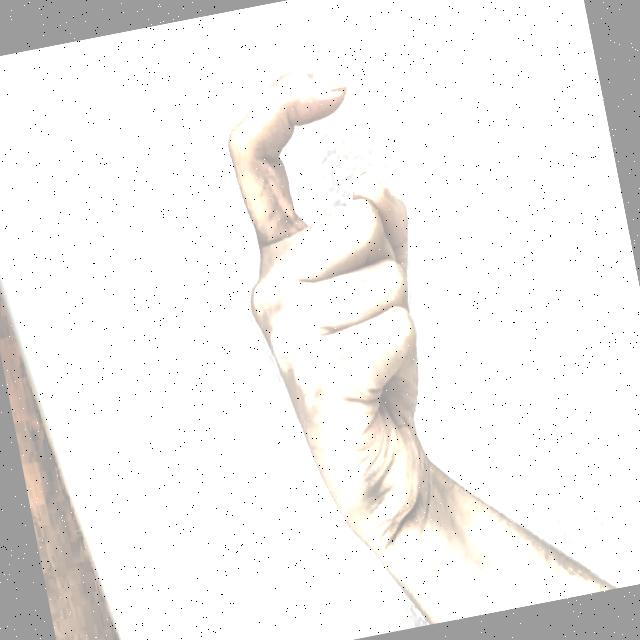E: (177, 16, 510, 552)
